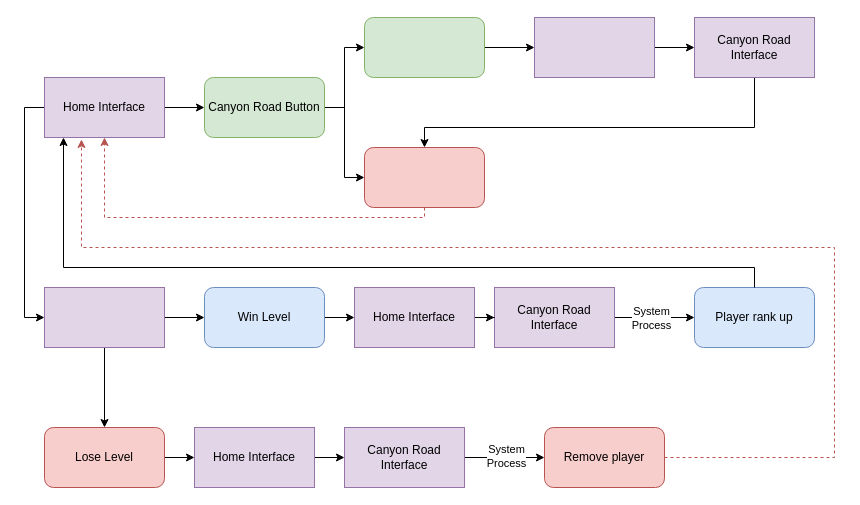
Some shapes in this 860 by 505 pixel diagram are drawn without their labels. Each missing label, with the centre of its shape:
"Game play Interface" goes at (104,317).
"Player match interface" goes at (594,47).
"Quit Button" goes at (424,177).
"Start Button" goes at (424,47).
